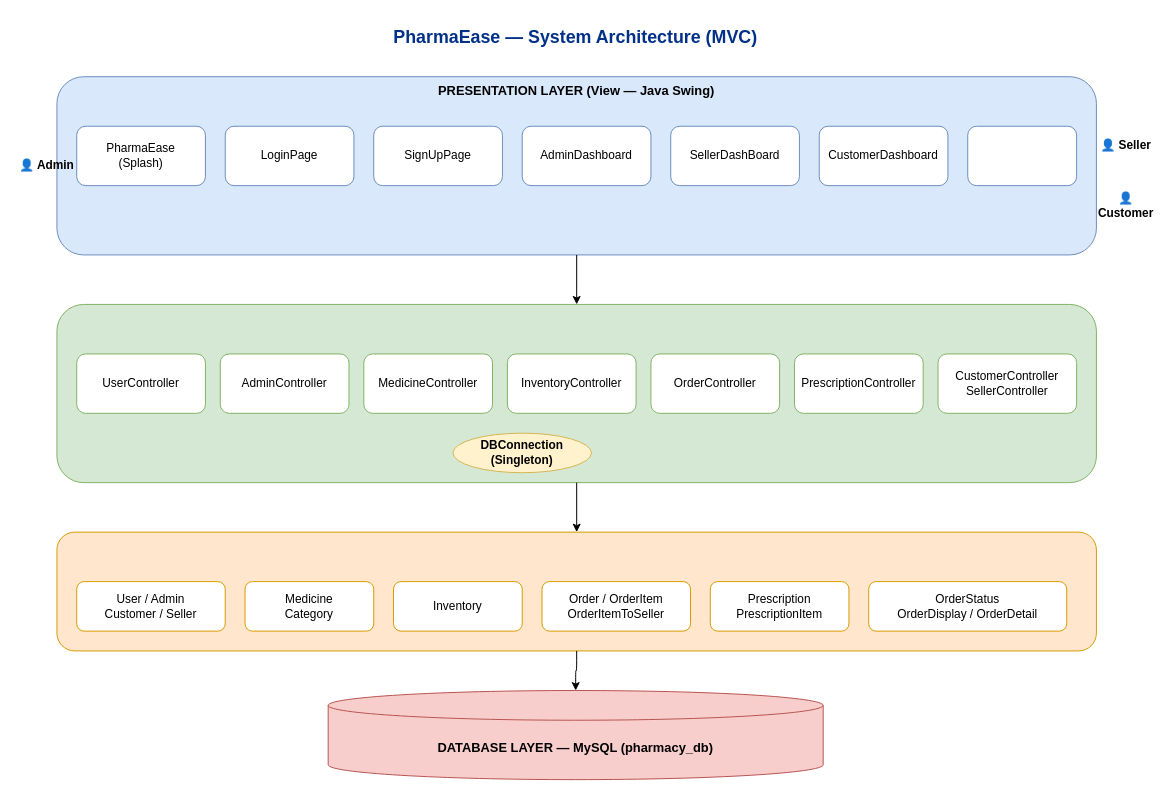
The diagram is 1172 pixels wide and 797 high, and some of its shapes have lost their labels. Here are the shapes that lost their labels. From the top down, the box of each, then its label:
(967, 125, 1077, 186): BackgroundPanel ButtonEditor/Renderer
(56, 303, 1096, 483): CONTROLLER LAYER (Business Logic — JDBC)
(56, 531, 1096, 651): MODEL LAYER (POJOs)
